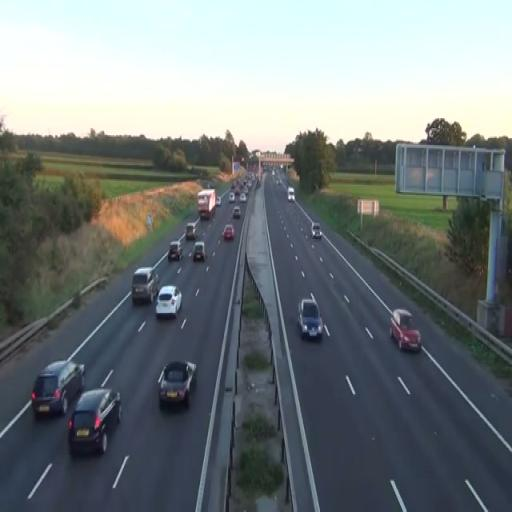Car: (67, 388, 122, 457), (31, 359, 85, 418), (157, 360, 197, 408), (389, 308, 422, 352), (296, 294, 323, 342), (132, 268, 160, 305), (155, 285, 182, 319), (168, 240, 184, 260), (192, 242, 206, 262), (223, 224, 235, 240), (231, 205, 241, 219)
Truck: (198, 188, 216, 220)
